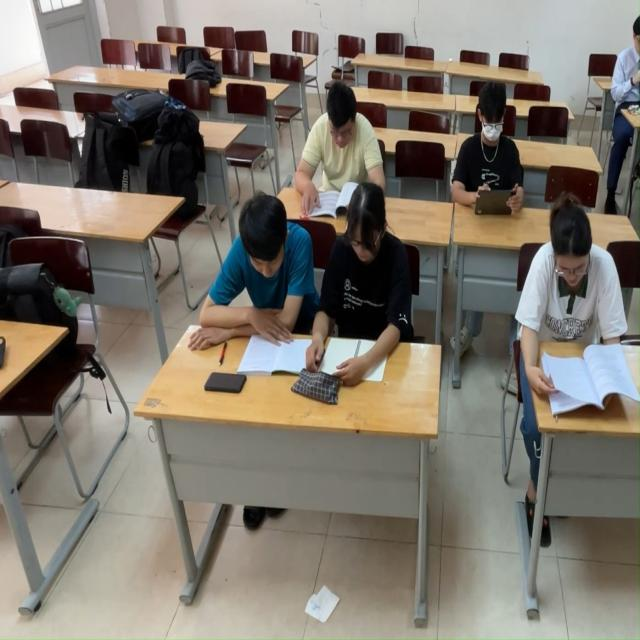read: (515, 185, 640, 437), (202, 185, 310, 390), (321, 192, 412, 407), (462, 82, 525, 224)
